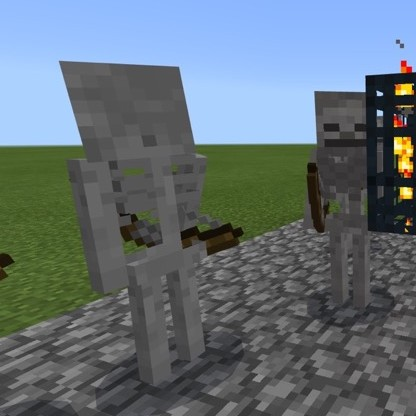skeleton: (49, 55, 232, 263)
